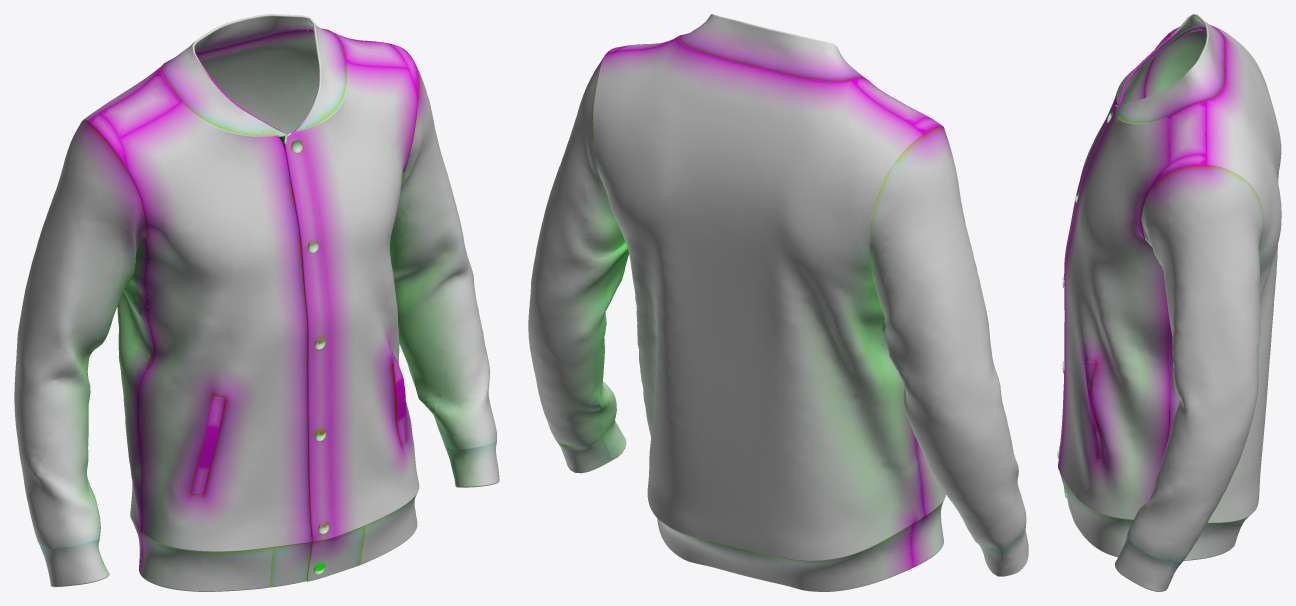
File: varsity.glb
3 renders of one model, left to right at view 1: azimuth 30°, elevation 25°; view 2: azimuth 150°, elevation 25°; view 3: azimuth 270°, elevation 25°, orthographic. The views are drawn at different scales.
Parts seen in each view (by area): view 1: front, sleeve_r, back, sleeve_l, buttons; view 2: back, sleeve_r, sleeve_l, front; view 3: front, sleeve_l, back, sleeve_r.
Part boxes in pixels (<box>): front: <box>119,14,419,591</box>; sleeve_r: <box>14,114,148,587</box>; back: <box>80,16,418,570</box>; sleeve_l: <box>389,43,499,487</box>; buttons: <box>284,132,329,574</box>; back: <box>592,14,944,591</box>; sleeve_r: <box>869,118,1028,576</box>; sleeve_l: <box>528,46,628,473</box>; front: <box>678,14,945,566</box>; front: <box>1058,14,1208,557</box>; sleeve_l: <box>1115,154,1263,591</box>; back: <box>1116,16,1281,560</box>; sleeve_r: <box>1144,27,1206,164</box>.
Size of the model in its own units: 0.6595 by 0.72 by 0.3021.
